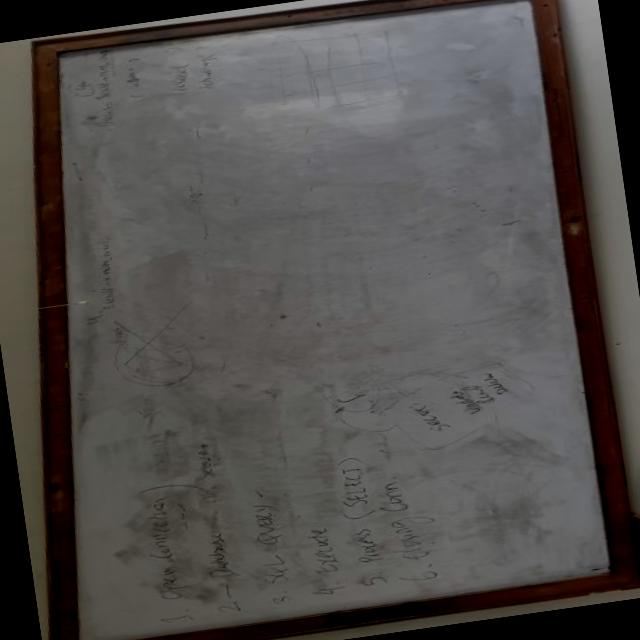White-board: (46, 0, 617, 640)
